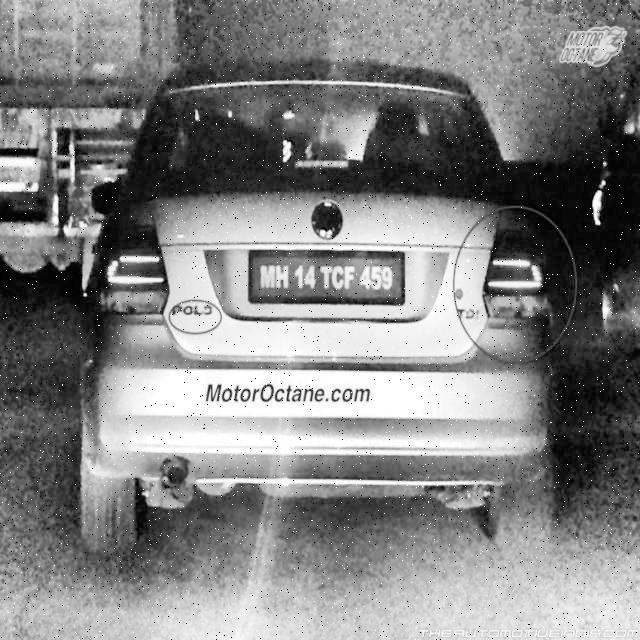Car: (53, 77, 581, 539)
